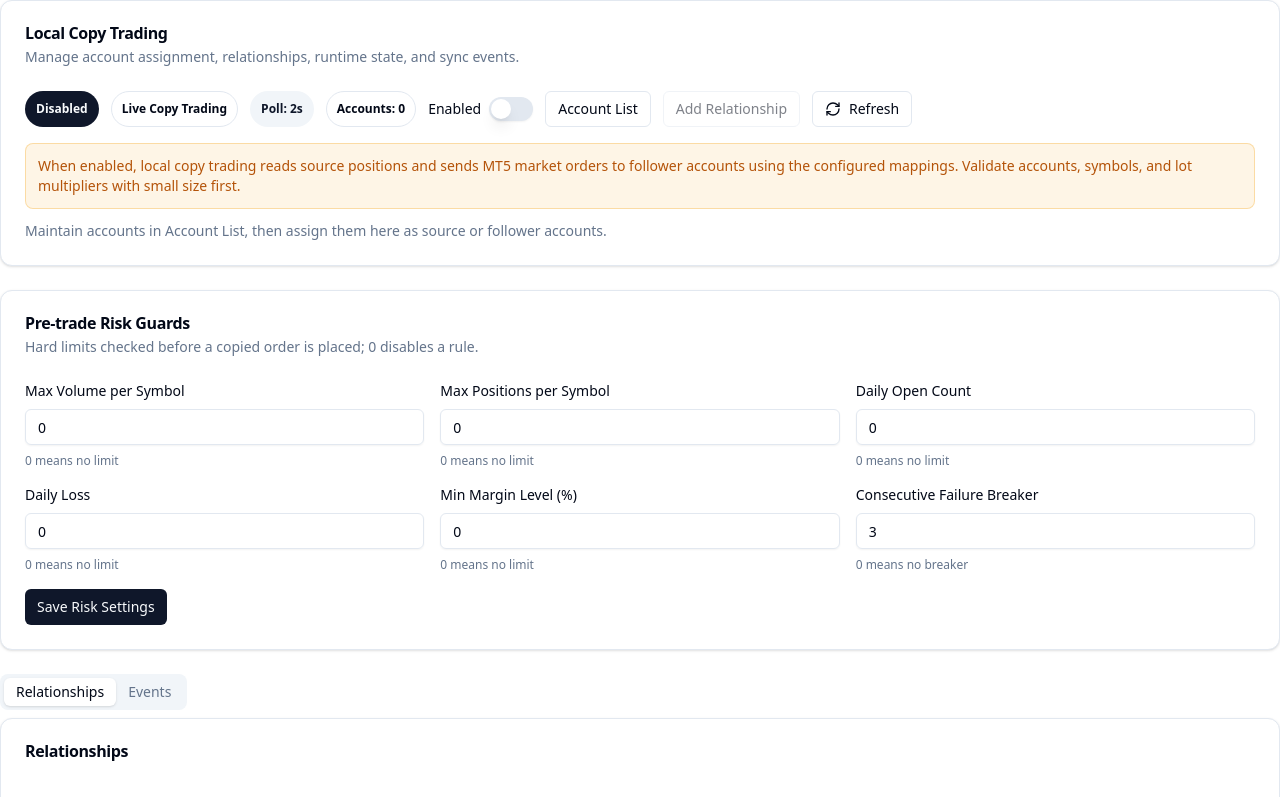
Test: Local Copy Trading Page › blocks enabling runtime without required local copy trading configuration
Click the switch named "Local Copy Trading".
click(511, 109)  # box [489,97,533,121]
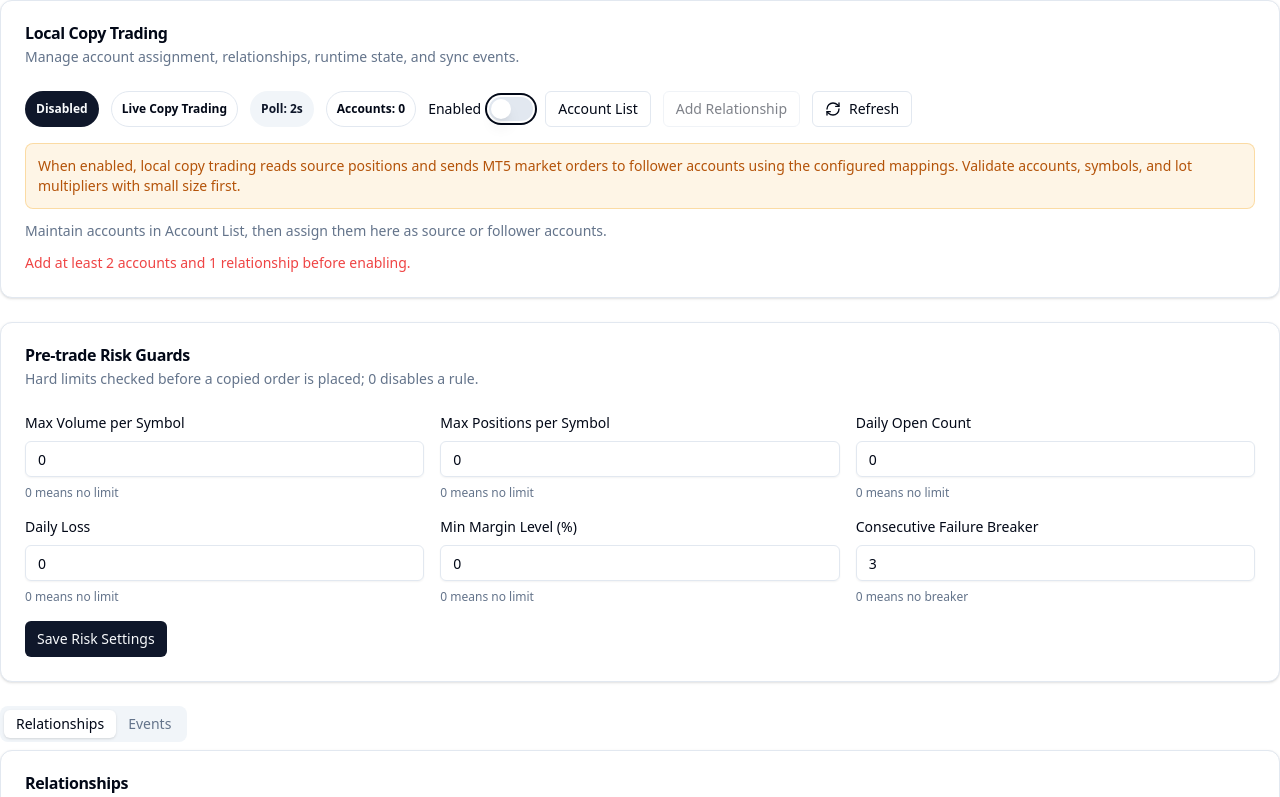
Check: the button "Add Relationship" is disabled, box [663,91,800,127]
Check: the text "Add at least 2 accounts and 1 relationship before enabling." is shown, box [25,253,411,272]
